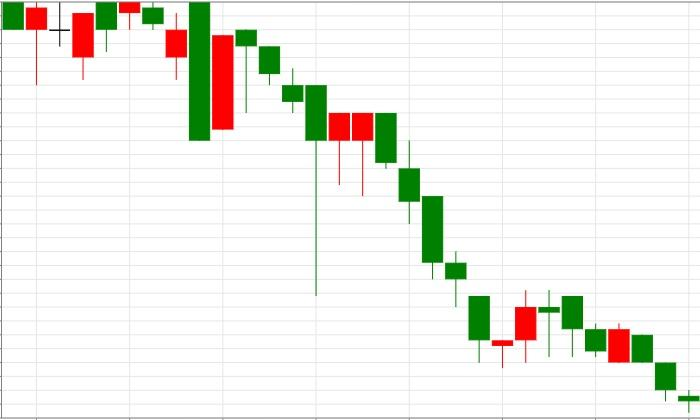morning_star_rise: (236, 29, 537, 368)
